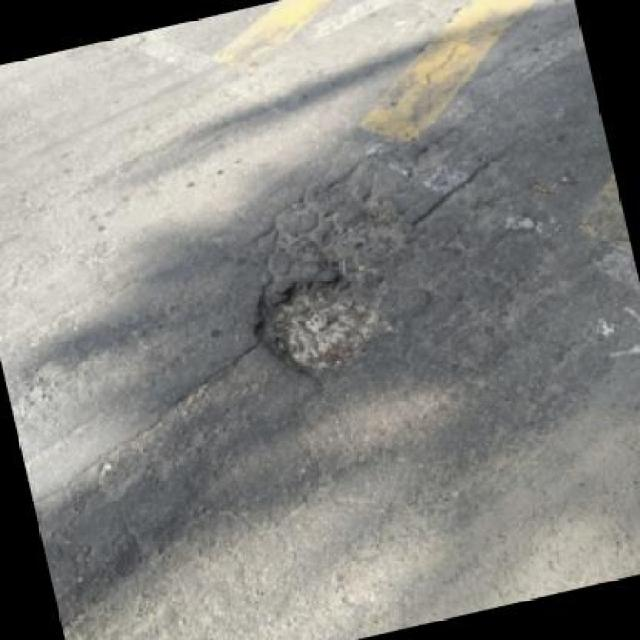pothole: (240, 253, 408, 392), (312, 196, 422, 275), (408, 126, 469, 176)
